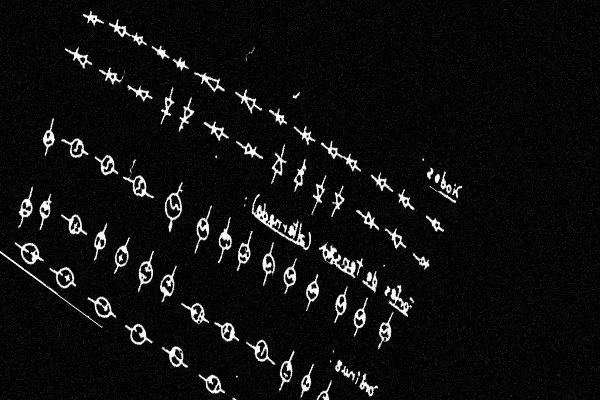diode: (196, 65, 225, 98), (236, 85, 261, 117), (288, 158, 311, 192), (204, 115, 229, 146), (157, 89, 179, 124), (267, 147, 290, 180), (384, 224, 408, 255), (238, 135, 262, 165), (68, 43, 92, 72), (176, 99, 197, 131), (293, 120, 316, 149), (369, 167, 391, 197), (394, 185, 416, 214), (358, 206, 380, 235), (340, 149, 361, 177), (327, 188, 347, 216), (268, 103, 289, 129), (82, 7, 103, 33), (100, 64, 121, 90), (309, 180, 328, 208), (132, 81, 152, 107), (150, 40, 170, 64), (110, 17, 130, 41), (323, 139, 342, 164), (172, 51, 190, 75), (130, 27, 148, 51), (415, 251, 432, 274), (427, 214, 444, 236)
signal: (158, 184, 189, 230), (255, 245, 282, 285), (212, 222, 238, 260), (62, 130, 90, 165), (278, 256, 303, 295), (125, 170, 153, 204), (299, 273, 324, 311), (94, 148, 120, 183), (190, 211, 215, 247), (372, 315, 397, 351), (232, 235, 256, 272), (349, 301, 373, 336), (329, 289, 352, 323), (38, 124, 59, 153)
voltage: (48, 258, 79, 297), (123, 315, 154, 354), (87, 290, 118, 327), (14, 233, 44, 271), (132, 253, 159, 293), (246, 332, 275, 369), (183, 294, 212, 331), (273, 352, 299, 391), (155, 267, 181, 305), (109, 238, 135, 276), (198, 366, 227, 400), (162, 339, 189, 374), (62, 208, 89, 242), (13, 191, 37, 227), (88, 224, 112, 259), (216, 315, 240, 348), (34, 193, 57, 227), (296, 370, 316, 399), (310, 383, 336, 400), (235, 391, 265, 400)
